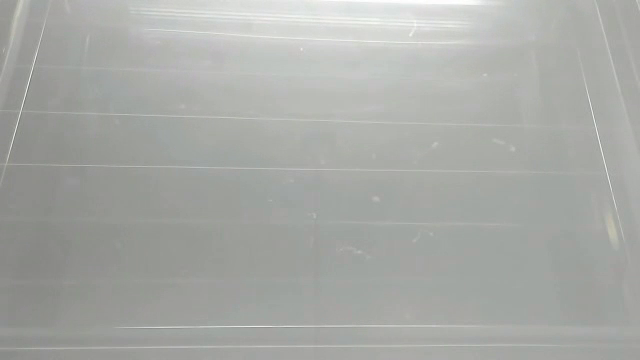alpha: (483, 131, 521, 153)
